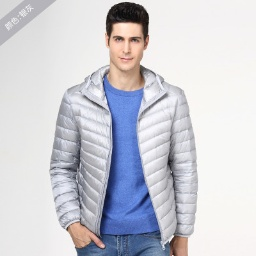face: (105, 3, 149, 71)
